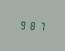eight: (28, 19, 36, 31)
nine: (18, 19, 26, 30)
seven: (37, 20, 45, 31)
